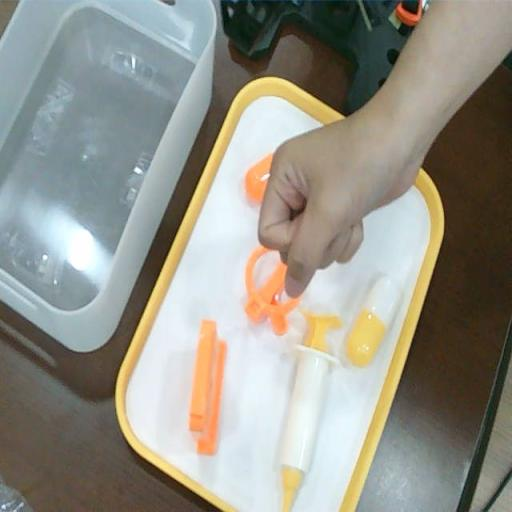hospital: (258, 115, 426, 299)
